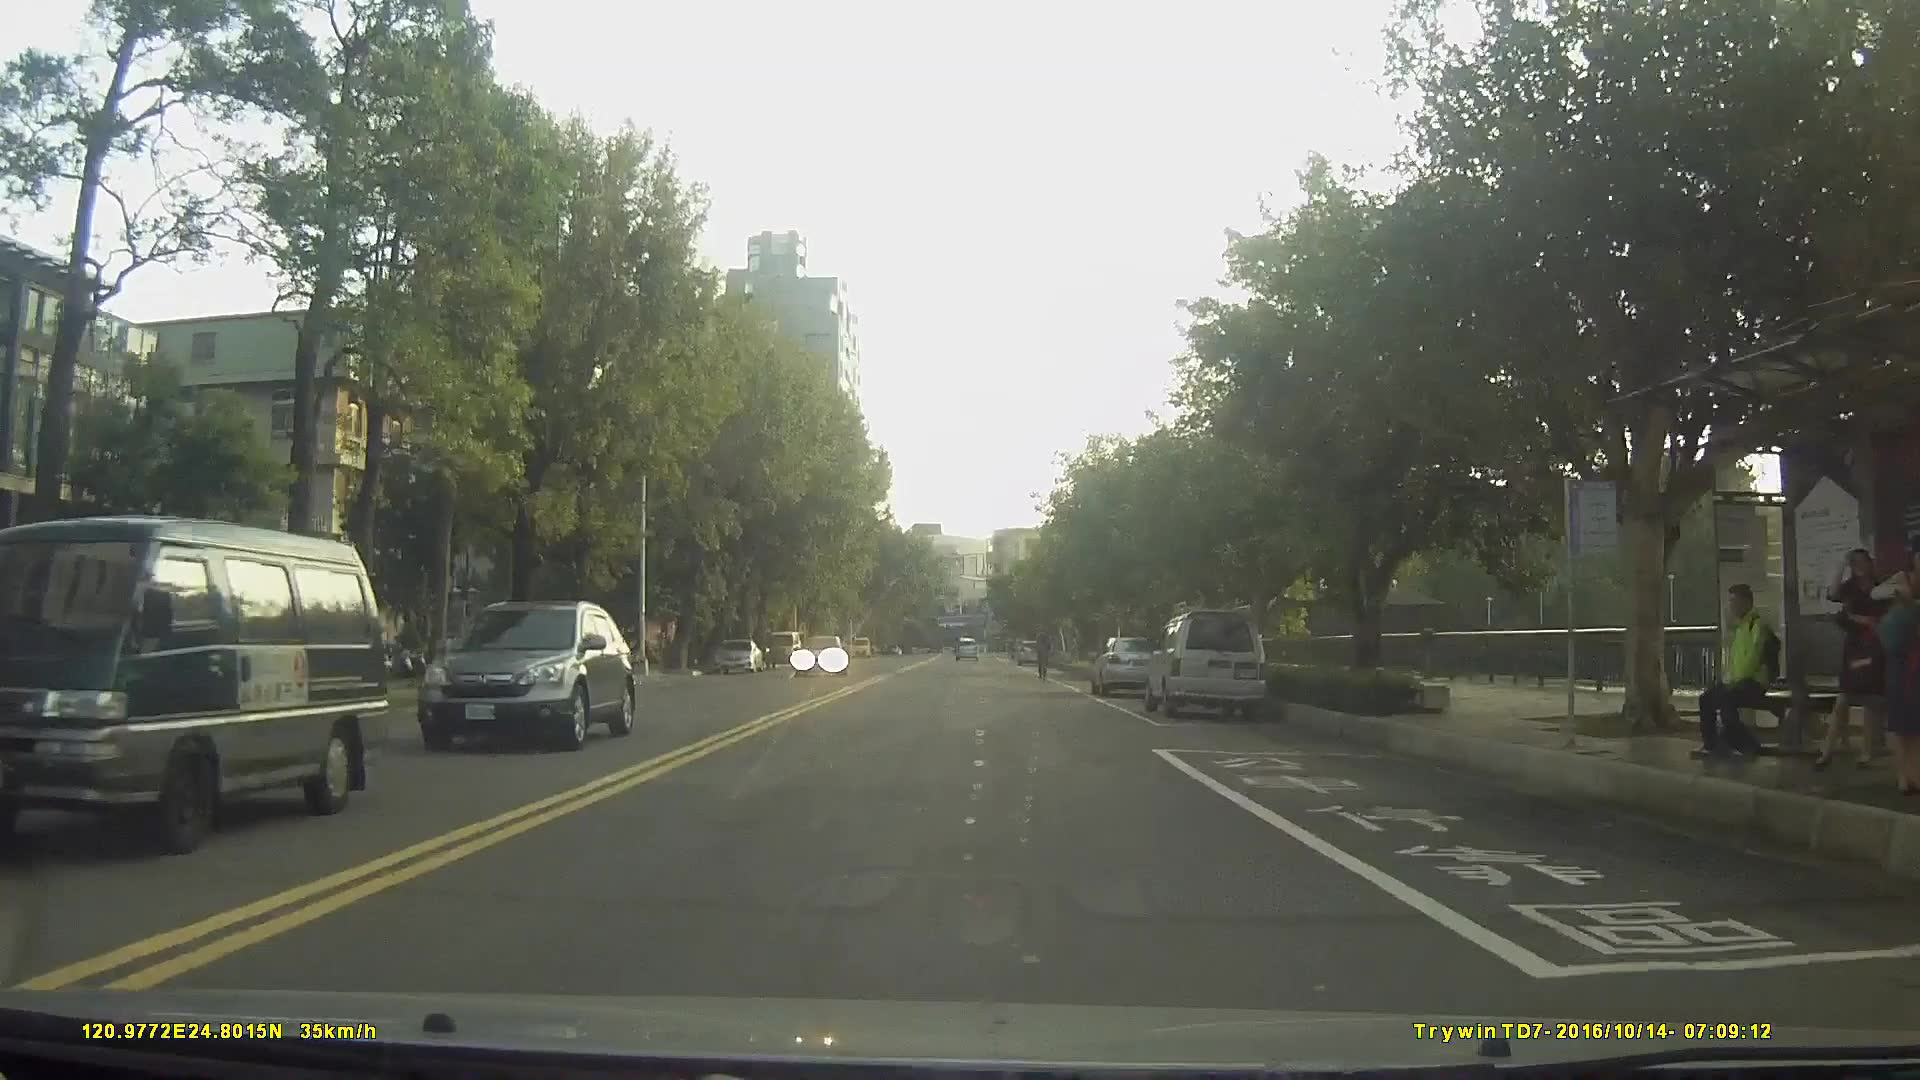pedestrian: (1696, 576, 1802, 779), (1820, 547, 1899, 768), (1871, 532, 1920, 796)
rider: (1033, 631, 1053, 686)
vehicle: (0, 516, 393, 857), (414, 601, 637, 750), (1143, 611, 1269, 721), (1092, 634, 1161, 696), (790, 634, 846, 680), (712, 637, 761, 676), (766, 627, 802, 669), (1016, 640, 1044, 668), (953, 635, 980, 661)
